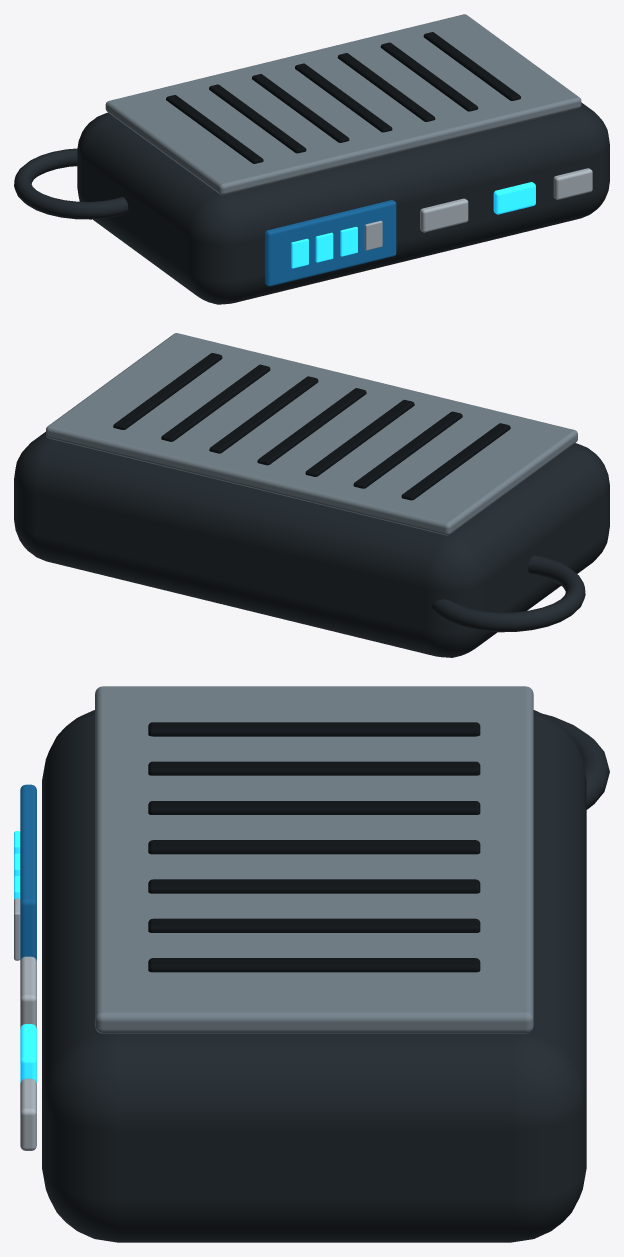
File: power-bank.glb
The picture shows the model from 3 angles, top to bottom: view 1: azimuth 30°, elevation 25°; view 2: azimuth 150°, elevation 25°; view 3: azimuth 270°, elevation 25°; orthographic projection. The views are drawn at different scales.
Visible parts, largest first — view 1: Power bank enclosure, Anodized top surface, Surface groove (×7), Charge display, Premium high-capacity USB-C power bank, Charging port (×3), Charge bar (×4); view 2: Power bank enclosure, Anodized top surface, Surface groove (×7), Premium high-capacity USB-C power bank; view 3: Power bank enclosure, Anodized top surface, Surface groove (×7), Charging port (×3), Charge display, Premium high-capacity USB-C power bank.
Boxes of the visible parts, x1,y1,x2,y2 form: Power bank enclosure: (77,102,609,304); Anodized top surface: (105,14,581,195); Surface groove (×7): (166,32,520,163); Charge display: (265,200,396,286); Premium high-capacity USB-C power bank: (14,148,128,219); Charging port (×3): (420,168,592,232); Charge bar (×4): (291,220,382,268); Power bank enclosure: (14,432,609,657); Anodized top surface: (46,333,577,535); Surface groove (×7): (113,353,510,500); Premium high-capacity USB-C power bank: (431,555,585,632); Power bank enclosure: (42,710,586,1242); Anodized top surface: (95,686,533,1033); Surface groove (×7): (148,722,480,972); Charging port (×3): (20,956,36,1150); Charge display: (20,784,36,961); Premium high-capacity USB-C power bank: (543,714,609,809).
Size of the model in its own units: 1.59 by 0.3875 by 0.897.
